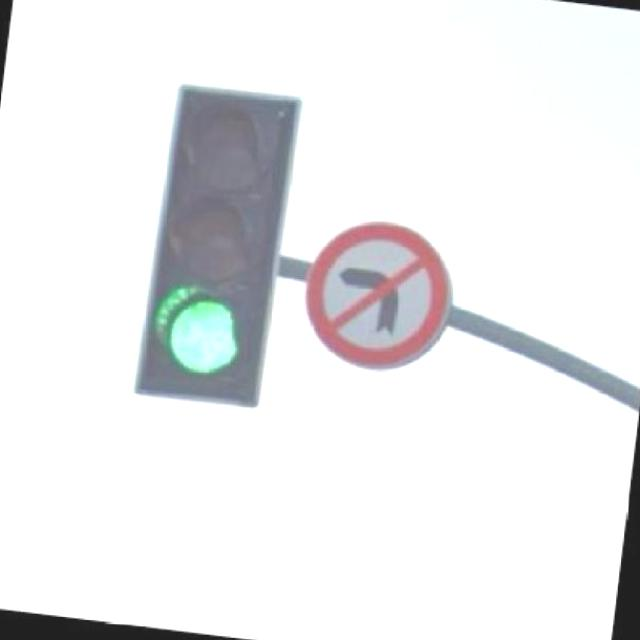yesil: (137, 86, 302, 407)
